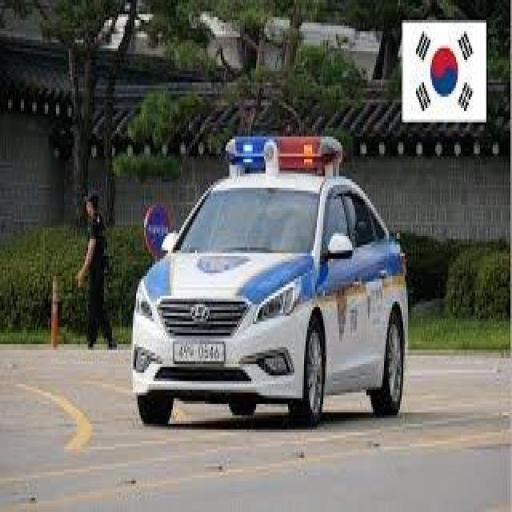Ambulance: (131, 136, 408, 418)
